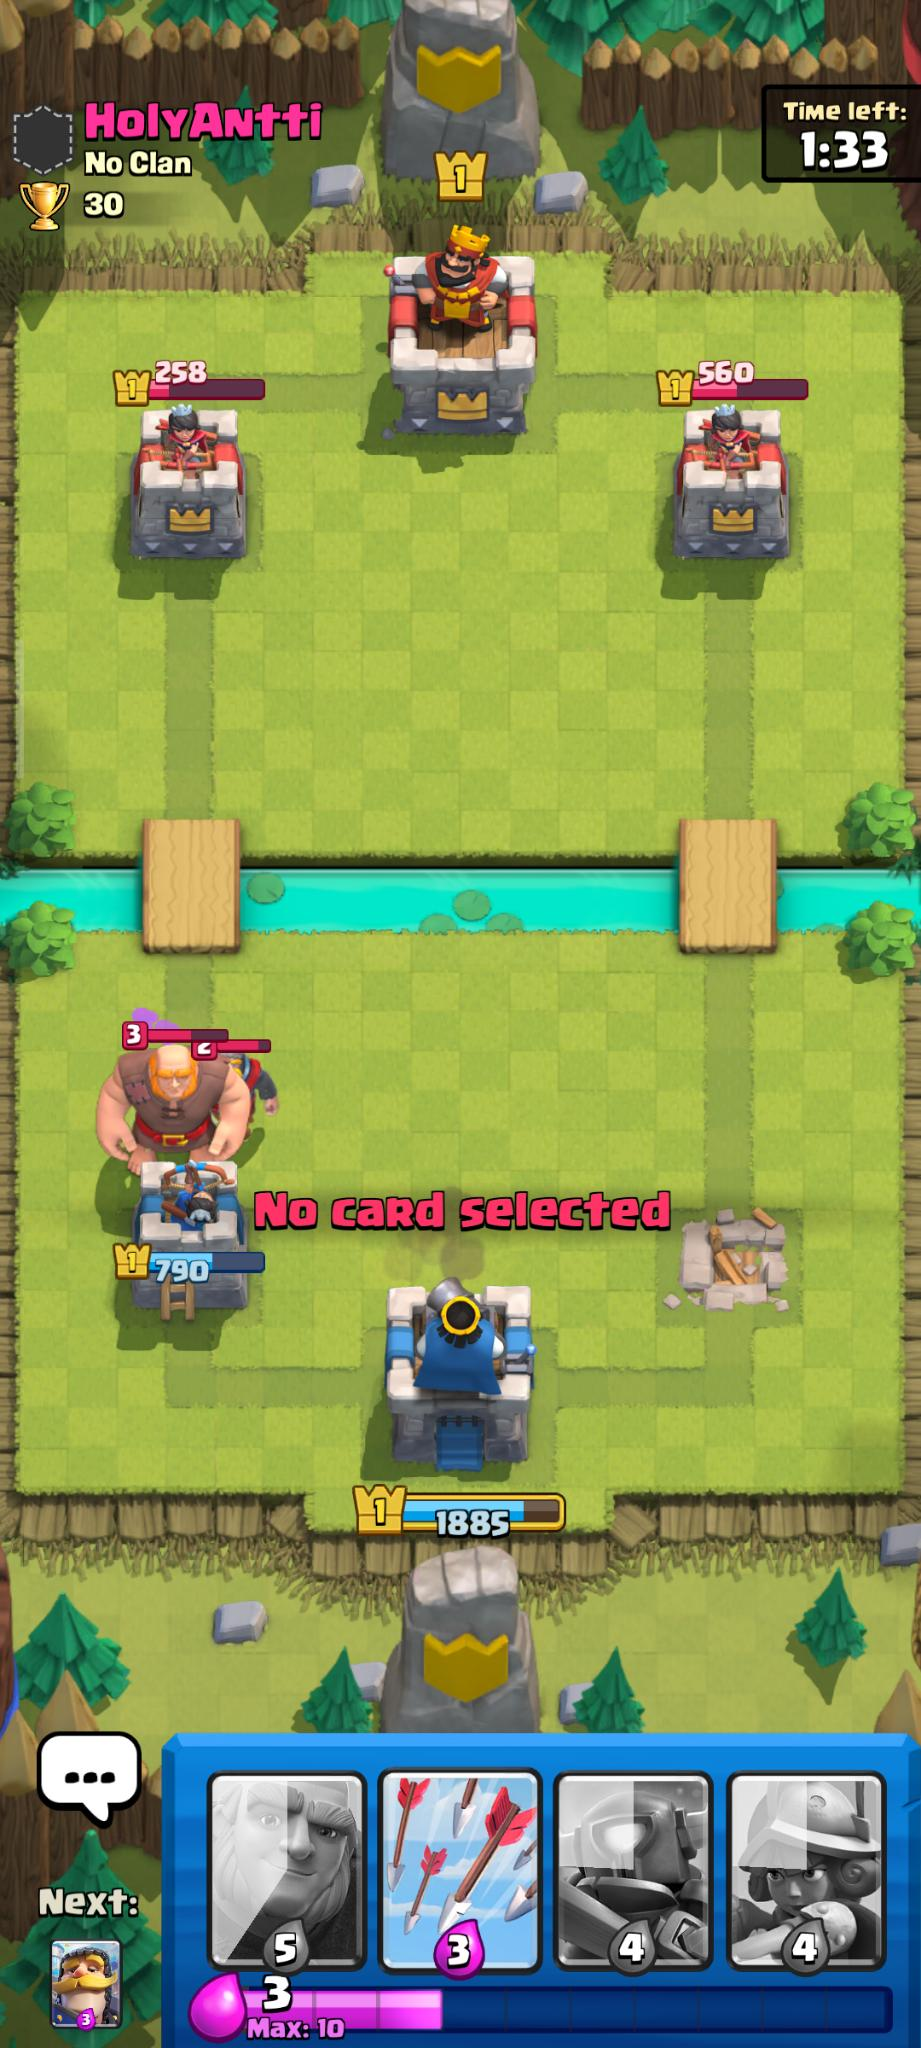geant: (95, 1033, 250, 1189)
